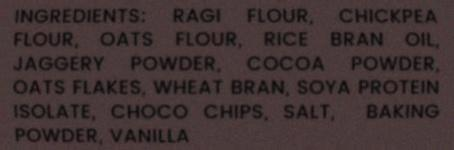ingredients: (12, 7, 449, 150)
